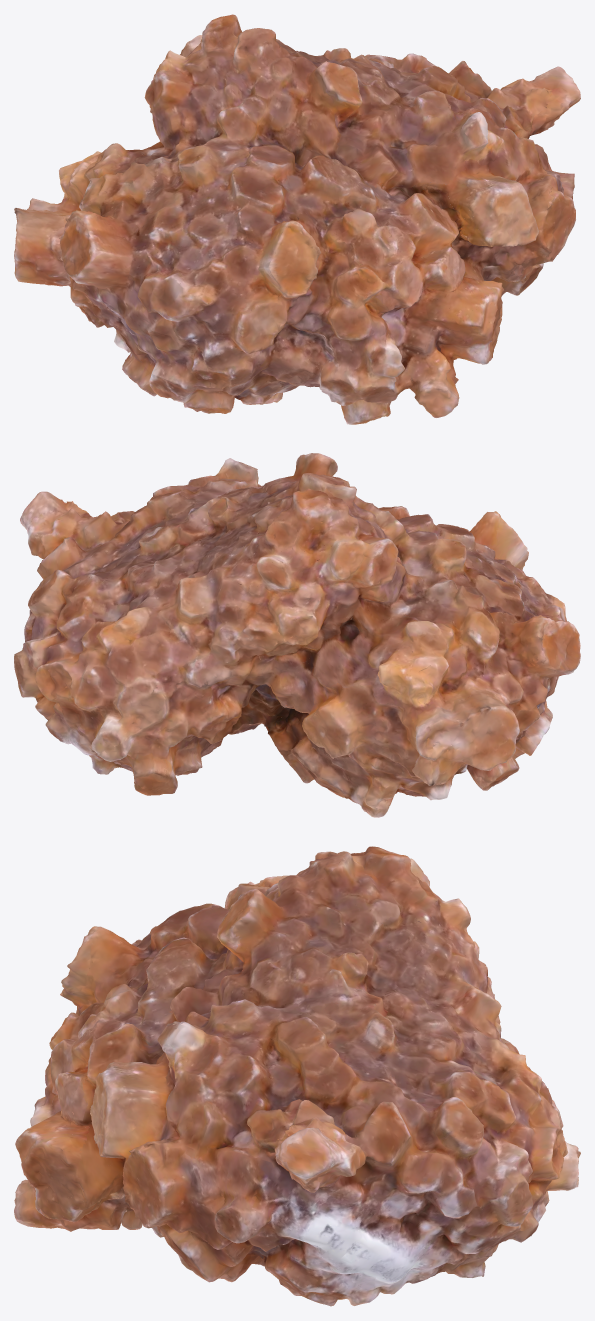
The model's file is aragonite.glb.
The picture shows the model from 3 angles, top to bottom: view 1: azimuth 30°, elevation 25°; view 2: azimuth 150°, elevation 25°; view 3: azimuth 270°, elevation 25°; orthographic projection. The views are drawn at different scales.
Parts seen in each view (by area): view 1: Object_2; view 2: Object_2; view 3: Object_2.
Boxes of the visible parts, x1=… form: Object_2: x1=14, y1=14, x2=580, y2=424; Object_2: x1=14, y1=453, x2=580, y2=817; Object_2: x1=14, y1=846, x2=580, y2=1306.
Bounding box in the file's own units: 2.44 × 1.46 × 1.98.
1 material, 1 textured.
